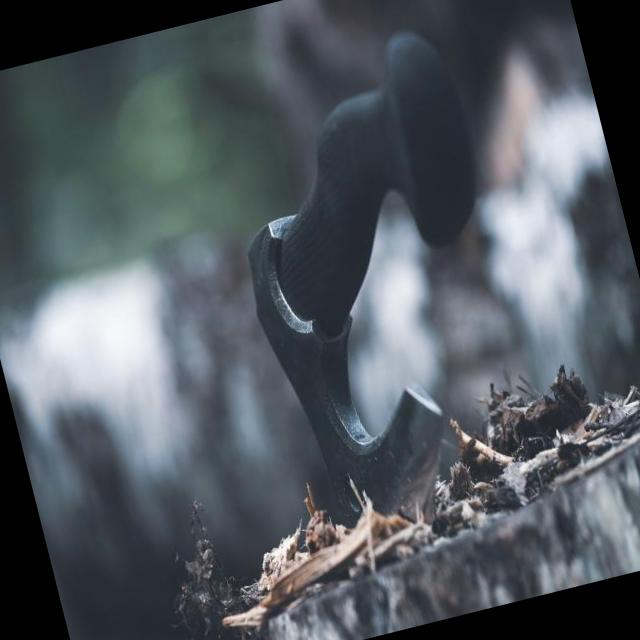Axe: (248, 32, 474, 520)
